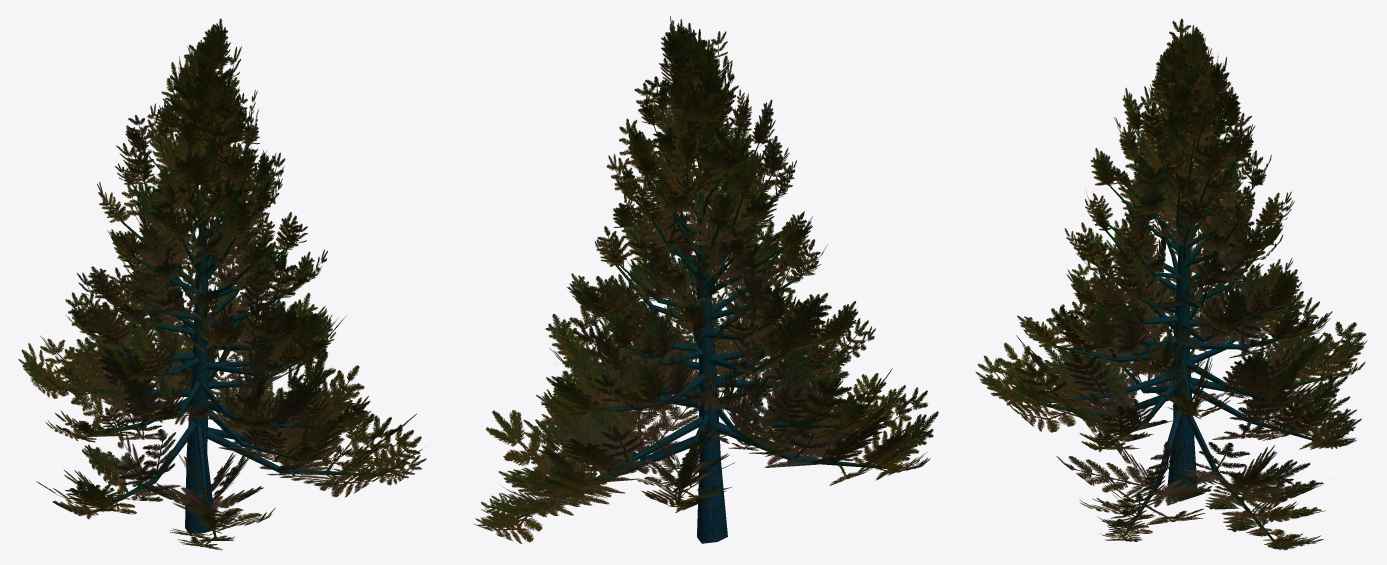
The model's file is Picea_Abies_C.glb.
3 views of the same model, side by side, from view 1: azimuth 30°, elevation 25°; view 2: azimuth 150°, elevation 25°; view 3: azimuth 270°, elevation 25° (orthographic). The views are drawn at different scales.
Parts seen in each view (by area): view 1: C_LOD0; view 2: C_LOD0; view 3: C_LOD0.
Part boxes in pixels (bbox=[...]): C_LOD0: bbox=[18, 18, 426, 550]; C_LOD0: bbox=[474, 16, 938, 543]; C_LOD0: bbox=[975, 18, 1367, 550].
Size of what is drawn, in the model's own units: 12.06 by 15.01 by 11.27.
2 materials, 2 textured.
